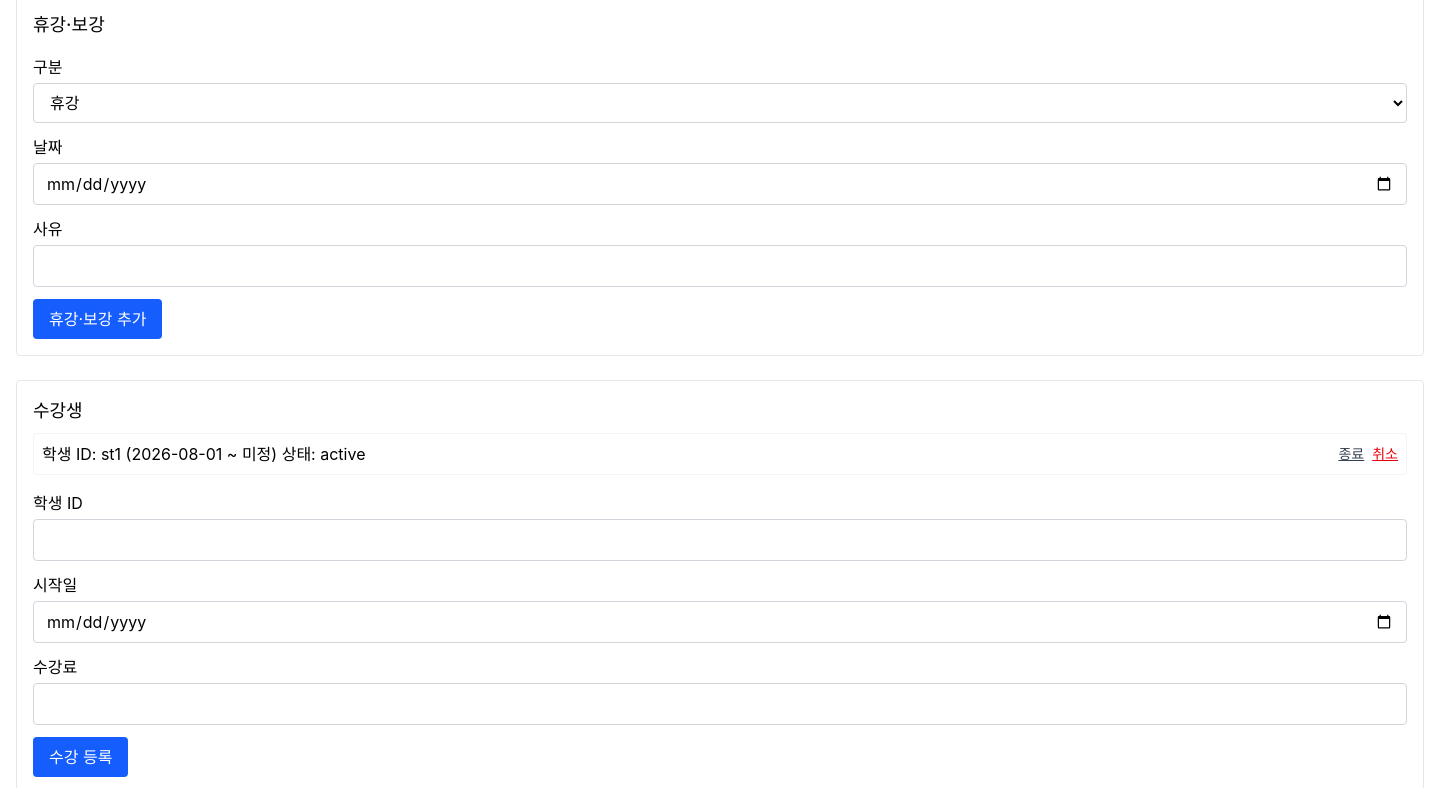
Scenario: CourseDetailPage › adds an enrollment and asserts the request body
(page scrolled)
Type "st2" into the field labelled "학생 ID" at {"x": 720, "y": 540}, box [33,519,1407,561]
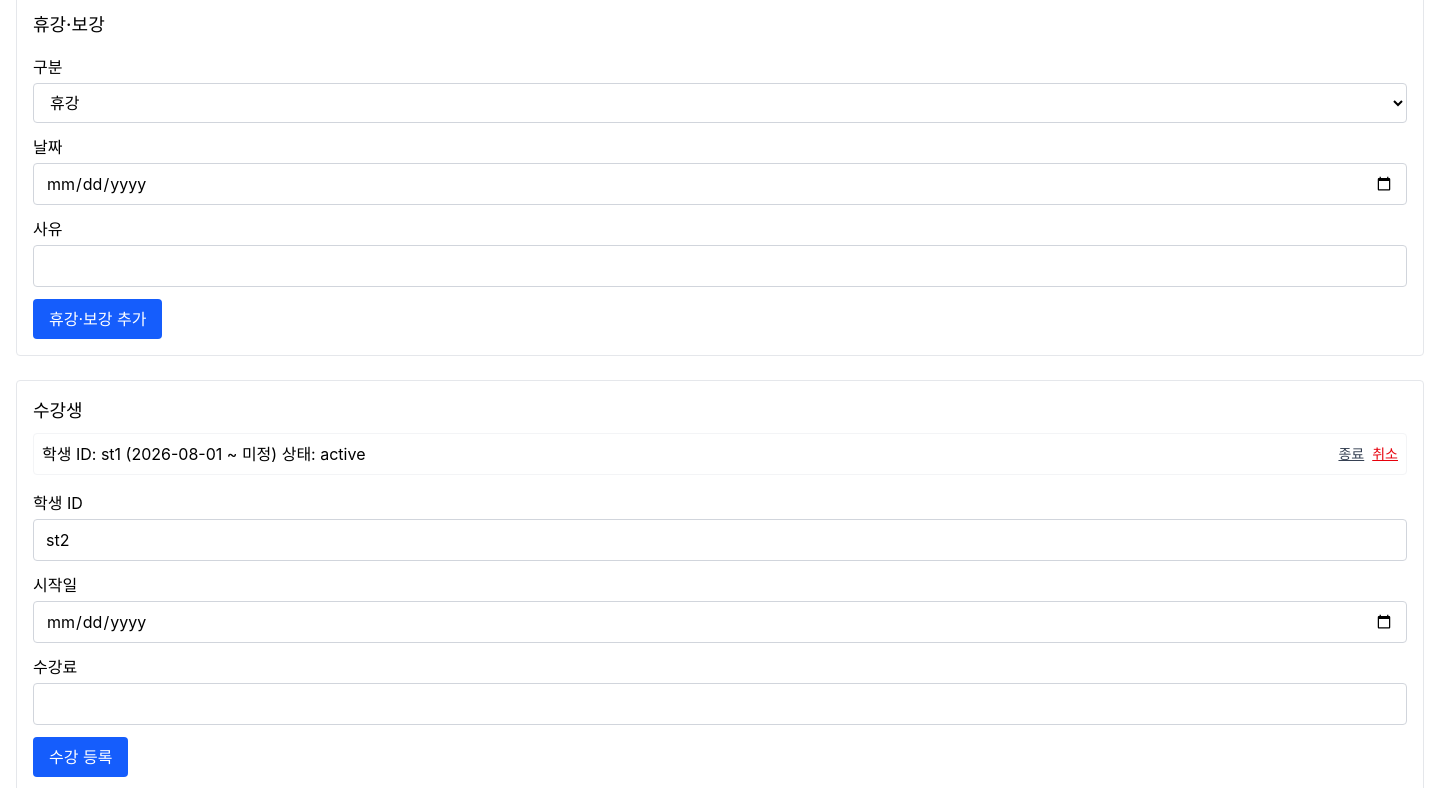
Type "2026-09-01" into the date field labelled "시작일" at {"x": 720, "y": 622}, box [33,601,1407,643]
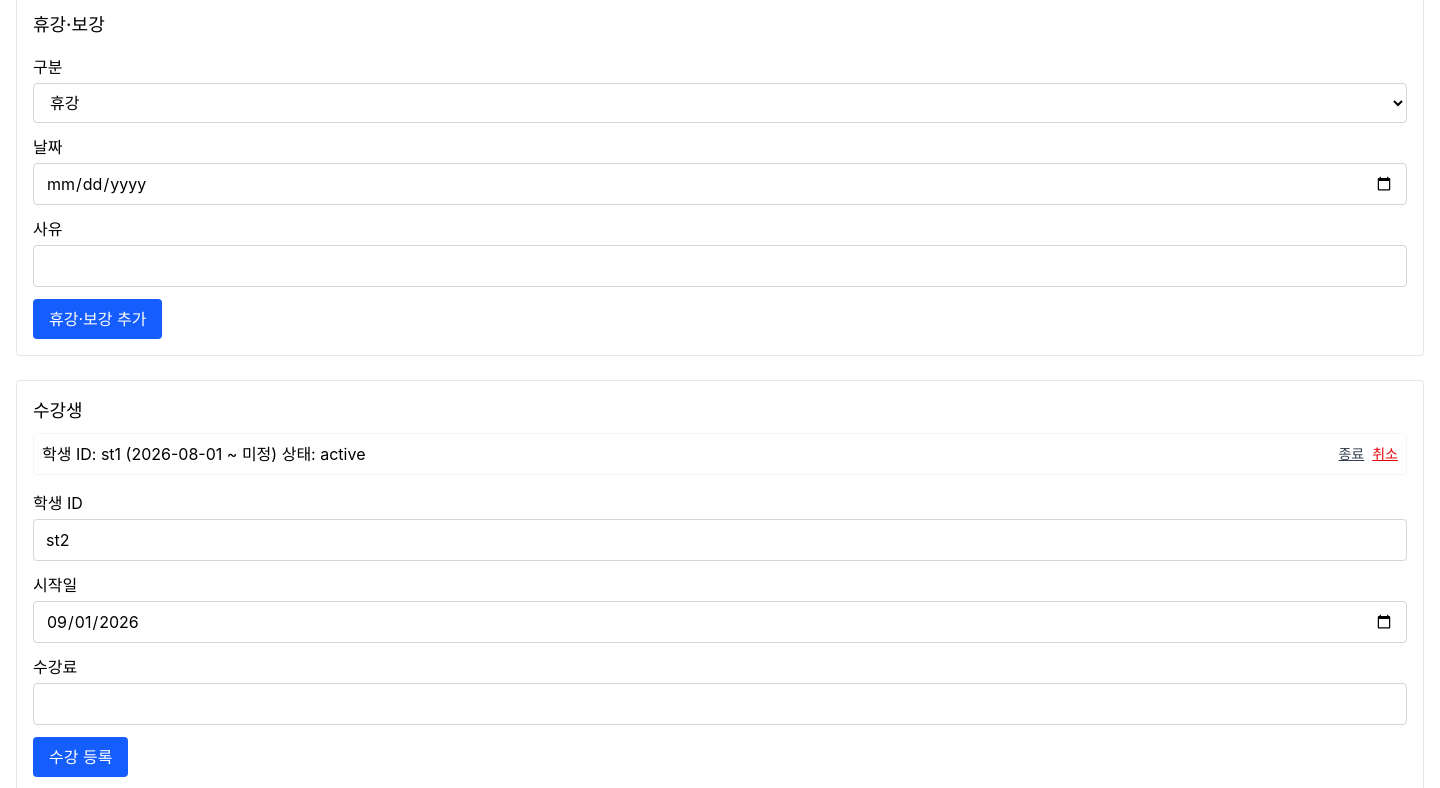
Type "150000" into the field labelled "수강료" at {"x": 720, "y": 704}, box [33,683,1407,725]
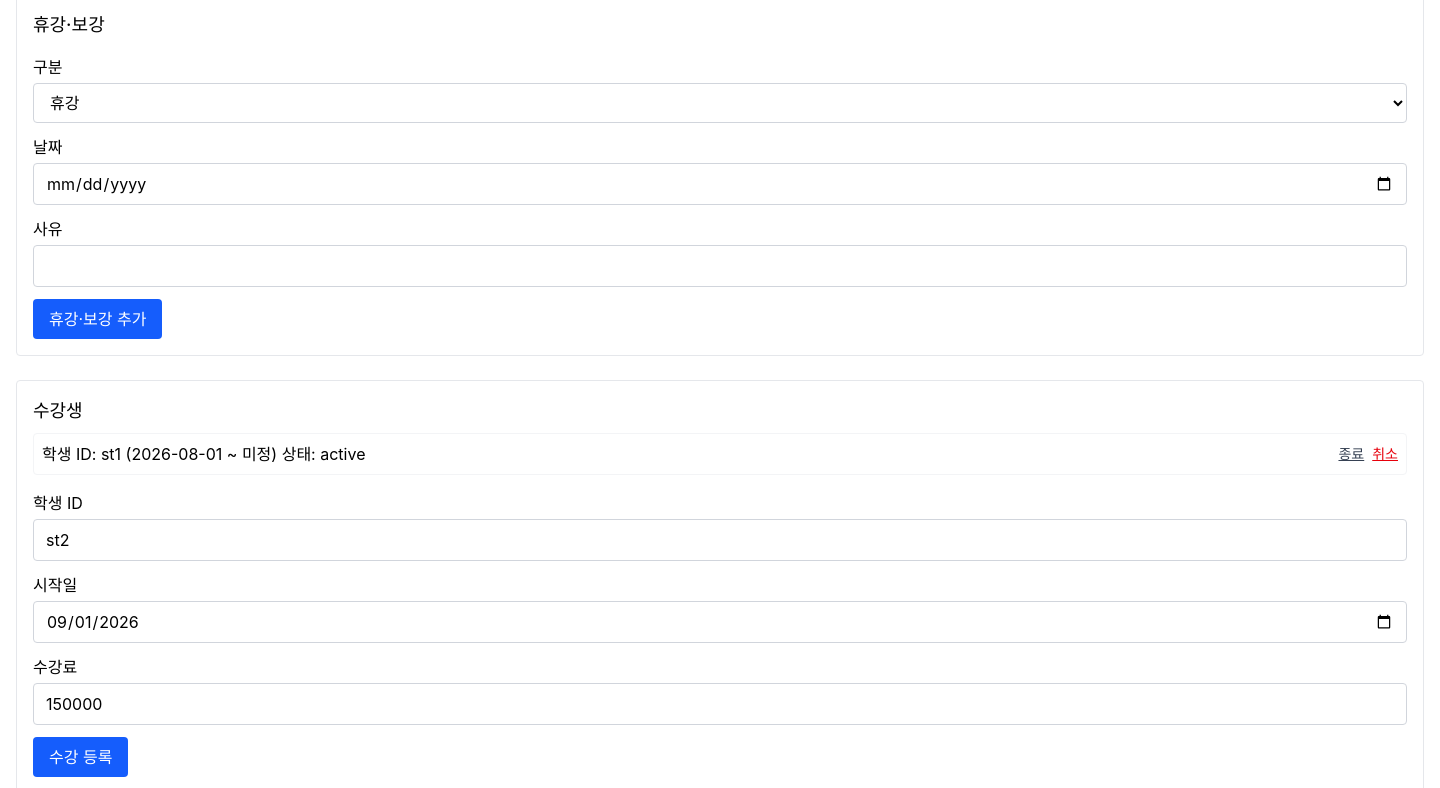
Click the button "수강 등록" at {"x": 81, "y": 757}, box [33,737,128,777]
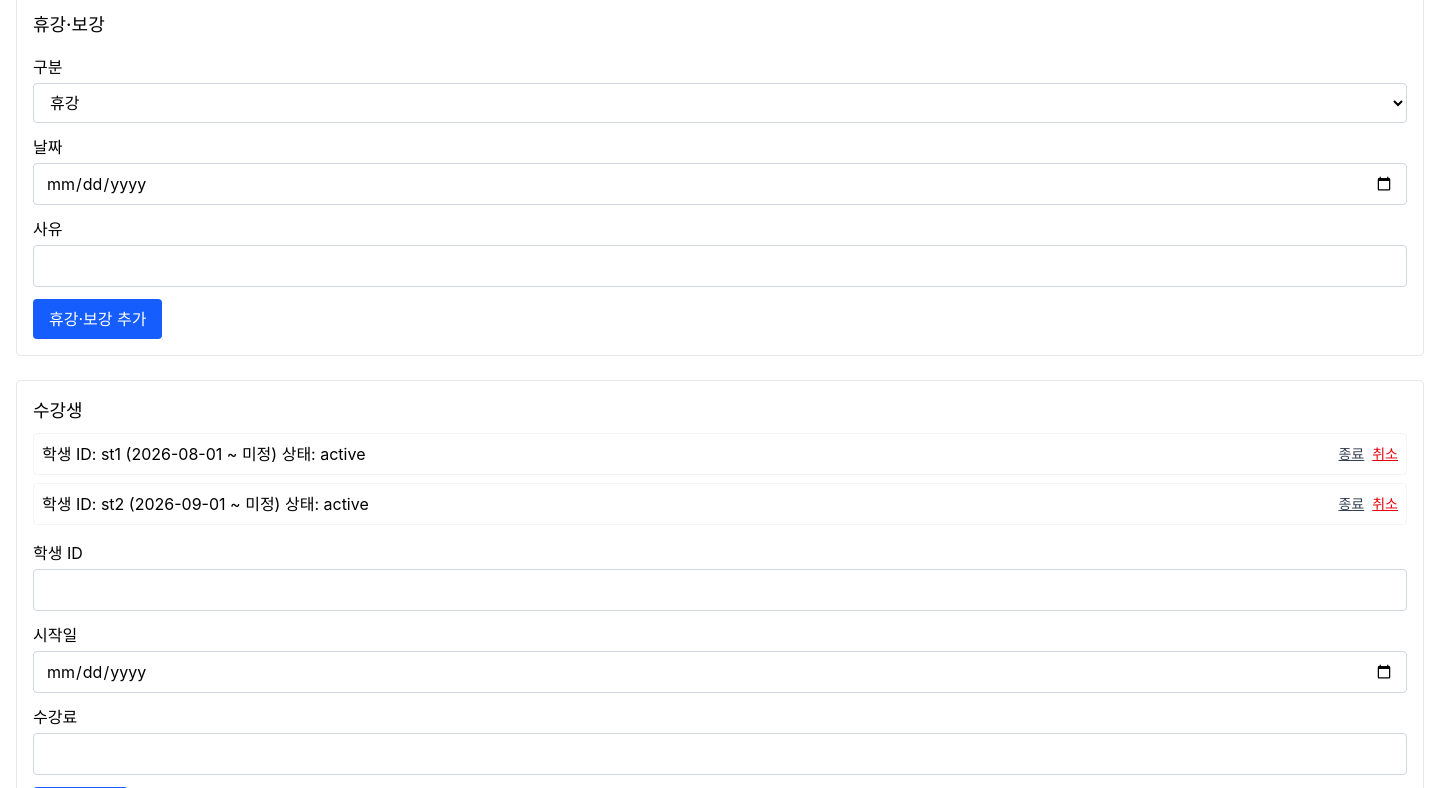
Result: the text "학생 ID: st2 (2026-09-01 ~ 미정) 상태: active" is shown at [42,492,369,516]
